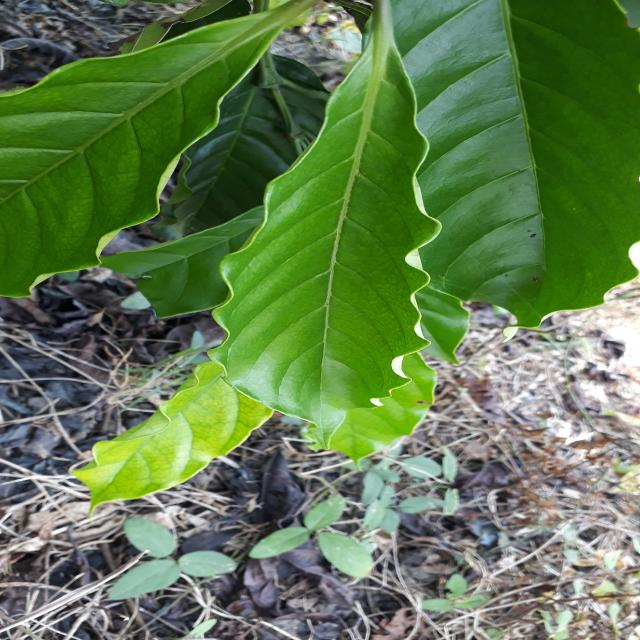Sanas: (209, 0, 440, 459)
